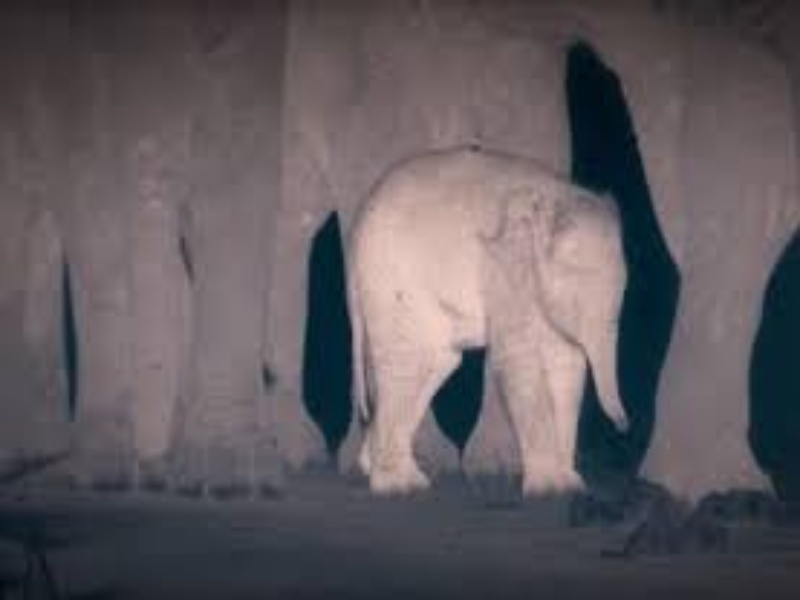elephant: (316, 128, 639, 516)
